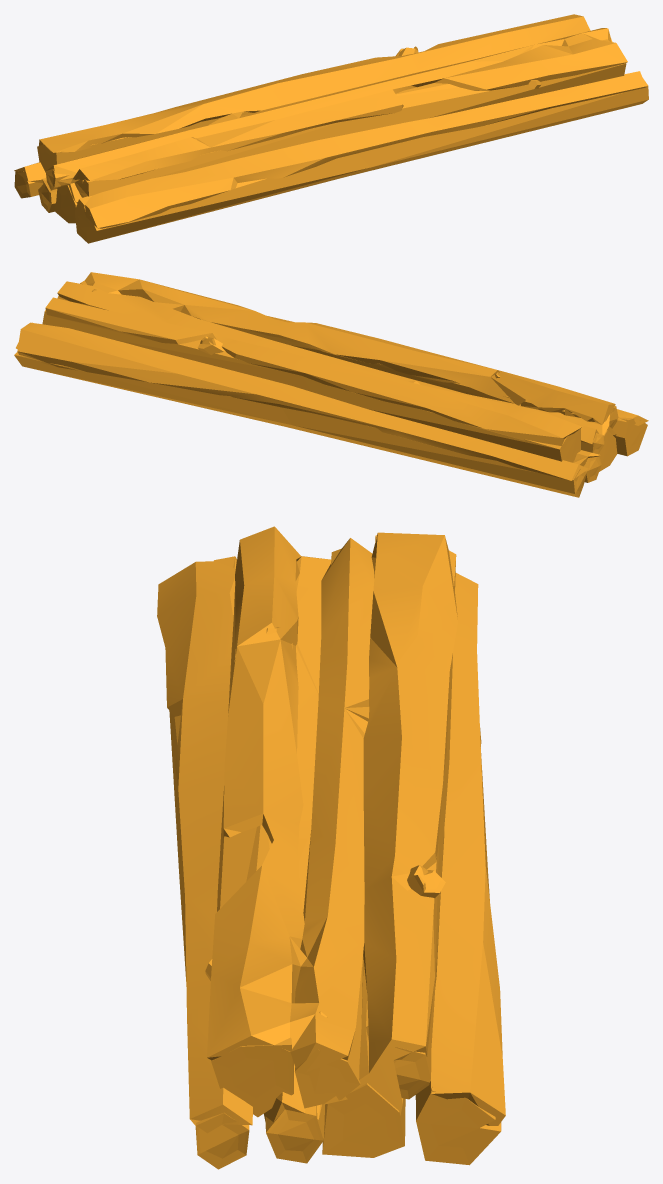
Rendered from SM_Tree_Beech_Log_Pile_A_Snow.fbx.
3 renders of one model, top to bottom at view 1: azimuth 30°, elevation 25°; view 2: azimuth 150°, elevation 25°; view 3: azimuth 270°, elevation 25°, orthographic. The views are drawn at different scales.
Parts seen in each view (by area): view 1: tree-beech-log-pile-a-snow; view 2: tree-beech-log-pile-a-snow; view 3: tree-beech-log-pile-a-snow.
Part boxes in pixels (x1,y1,x2,y2): tree-beech-log-pile-a-snow: [14, 14, 648, 243]; tree-beech-log-pile-a-snow: [14, 272, 648, 497]; tree-beech-log-pile-a-snow: [157, 526, 505, 1169].
Size of the model in its own units: 4.67 by 0.5408 by 1.27.
